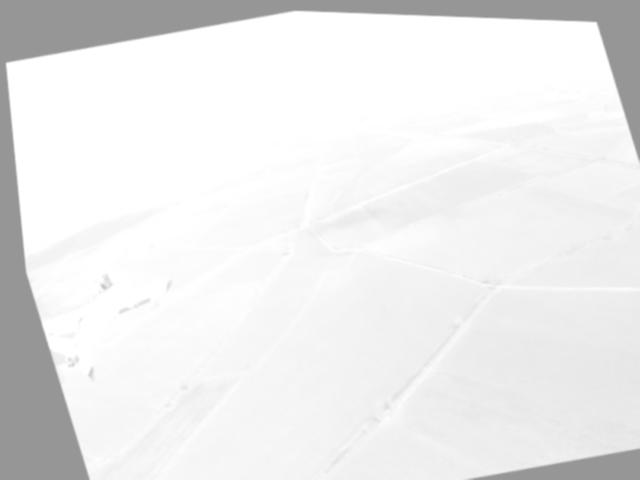hedef: (17, 228, 197, 405)
